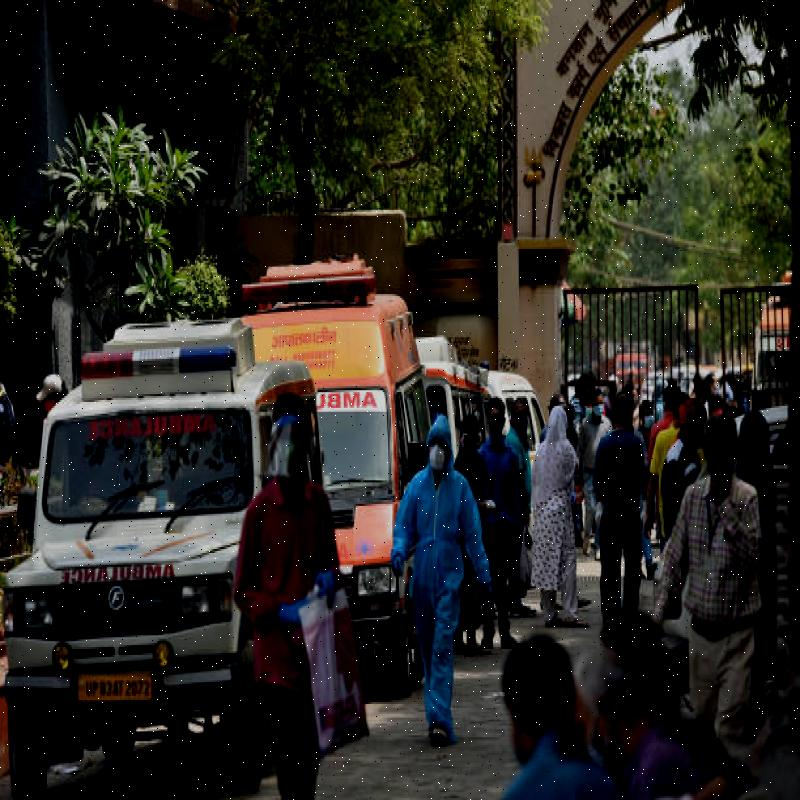ambulance: (0, 307, 302, 800), (76, 328, 245, 388)
